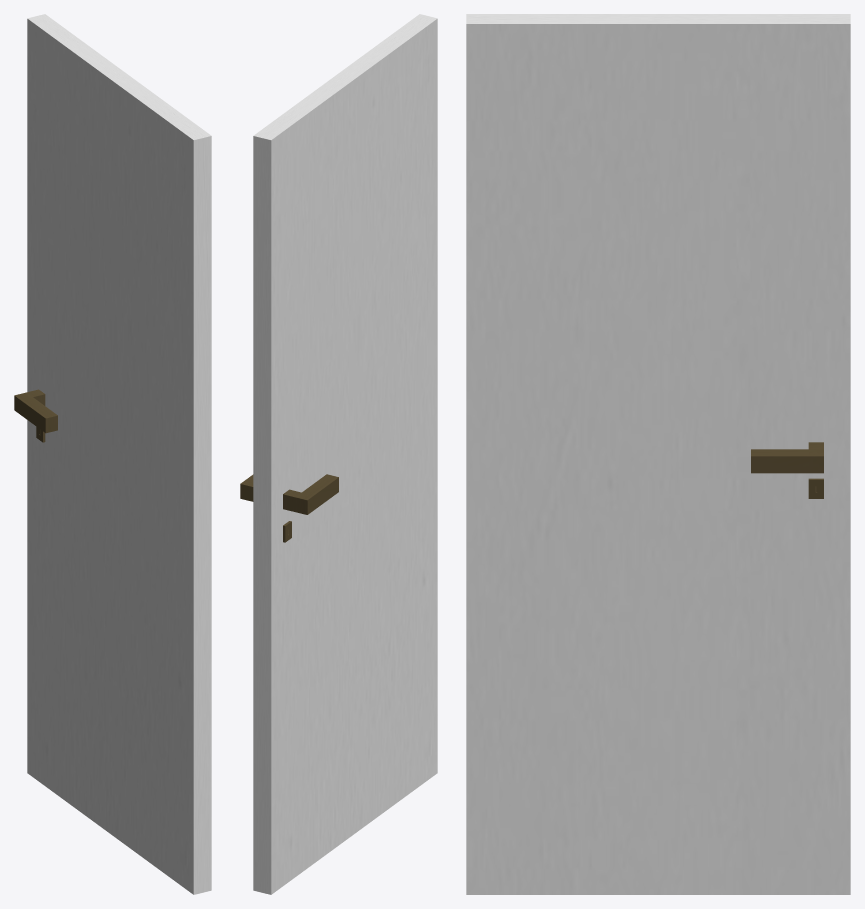
Rendered from Door.fbx.
3 renders of one model, left to right at view 1: azimuth 30°, elevation 25°; view 2: azimuth 150°, elevation 25°; view 3: azimuth 270°, elevation 25°, orthographic. The views are drawn at different scales.
Visible parts, largest first — view 1: Door; view 2: Door; view 3: Door.
Part boxes in pixels (x1,y1,x2,y2): Door: (14, 14, 211, 894); Door: (240, 14, 437, 894); Door: (466, 14, 850, 894).
Bounding box in the file's own units: 0.1867 × 2 × 0.8.
Materials: 1 (1 with a texture image).
